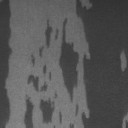red iron: (30, 0, 128, 128), (0, 0, 13, 128), (40, 93, 62, 124), (27, 75, 48, 93), (24, 98, 34, 128), (43, 66, 52, 80), (69, 124, 75, 128)
